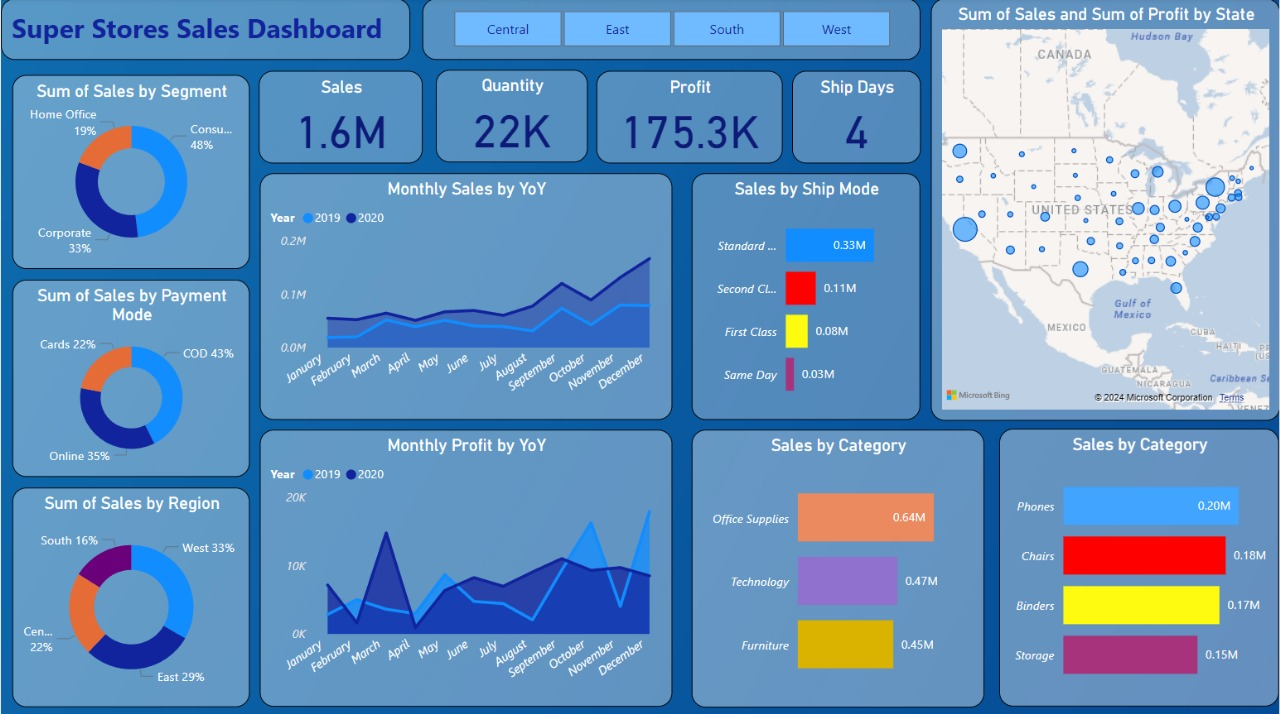

Layout of this report page (visuals, bound fields, positions):
{"tool":"powerbi","page":{"name":"Page 1","canvas":[1280,720],"ordinal":0},"visuals":[{"type":"clusteredBarChart","title":"Sales by Category","fields":{"Category":["Sheet1.Category"],"Y":["Sum(Sheet1.Sales)"]},"box":[691.2,432.1,292.6,278],"z":0},{"type":"clusteredBarChart","title":"Sales by Ship Mode","fields":{"Category":["Sheet1.Ship Mode","Sheet1.Sub-Category","Sheet1.Category"],"Y":["Sum(Sheet1.Sales)"]},"box":[691.2,175,228.8,247.5],"z":1000},{"type":"areaChart","title":"Monthly Sales by YoY","fields":{"Y":["Sum(Sheet1.Sales)"],"Category":["Sheet1.Order Date.Variation.Date Hierarchy.Month"],"Series":["Sheet1.Order Date.Variation.Date Hierarchy.Year"]},"box":[258.8,175,412.5,247.5],"z":2000},{"type":"areaChart","title":"Monthly Profit by YoY","fields":{"Category":["Sheet1.Order Date.Variation.Date Hierarchy.Month"],"Series":["Sheet1.Order Date.Variation.Date Hierarchy.Year"],"Y":["Sum(Sheet1.Profit)"]},"box":[258.8,432.5,412.5,277.5],"z":3000},{"type":"map","fields":{"Category":["Sheet1.State"],"Size":["Sum(Sheet1.Sales)"]},"box":[930.2,0,349.5,423.2],"z":4000},{"type":"donutChart","fields":{"Category":["Sheet1.Segment"],"Y":["Sum(Sheet1.Sales)"]},"box":[11.2,77,237.8,194.3],"z":5000},{"type":"donutChart","fields":{"Category":["Sheet1.Payment Mode"],"Y":["Sum(Sheet1.Sales)"]},"box":[11.2,281.4,237.8,197.6],"z":6000},{"type":"donutChart","fields":{"Category":["Sheet1.Region"],"Y":["Sum(Sheet1.Sales)"]},"box":[11.2,490.2,237.8,220],"z":7000},{"type":"slicer","fields":{"Values":["Sheet1.Region"]},"box":[422.1,0,498,61.4],"z":8000},{"type":"textbox","box":[0,0,409.8,61.4],"z":9000},{"type":"card","title":"Sales","fields":{"Values":["Sum(Sheet1.Sales)"]},"box":[257.9,72.6,164.1,92.7],"z":10000},{"type":"card","title":"Quantity","fields":{"Values":["Sum(Sheet1.Quantity)"]},"box":[435.5,71.5,151.9,92.7],"z":11000},{"type":"card","title":"Profit","fields":{"Values":["Sum(Sheet1.Profit)"]},"box":[596.3,72.6,186.5,92.7],"z":12000},{"type":"card","title":"Ship Days","fields":{"Values":["Avg(Sheet1.AvgDelivery)"]},"box":[791.2,72.5,128.8,92.5],"z":13000},{"type":"clusteredBarChart","title":"Sales by Category","fields":{"Category":["Sheet1.Sub-Category"],"Y":["Sum(Sheet1.Sales)"]},"box":[999.4,431,280.3,278],"z":14000}]}

Visuals, with their boxes in screenshot pixels (x1, y1, x2, y2), scaled from the page's 1280x720 canvas onto the 1280x714 screenshot:
"Sales by Category" clusteredBarChart: box=[691, 428, 984, 704]
"Sales by Ship Mode" clusteredBarChart: box=[691, 174, 920, 419]
"Monthly Sales by YoY" areaChart: box=[259, 174, 671, 419]
"Monthly Profit by YoY" areaChart: box=[259, 429, 671, 704]
map - Sheet1.State x Sum(Sheet1.Sales): box=[930, 0, 1279, 420]
donutChart - Sheet1.Segment x Sum(Sheet1.Sales): box=[11, 76, 249, 269]
donutChart - Sheet1.Payment Mode x Sum(Sheet1.Sales): box=[11, 279, 249, 475]
donutChart - Sheet1.Region x Sum(Sheet1.Sales): box=[11, 486, 249, 704]
slicer - Sheet1.Region: box=[422, 0, 920, 61]
textbox: box=[0, 0, 410, 61]
"Sales" card: box=[258, 72, 422, 164]
"Quantity" card: box=[436, 71, 587, 163]
"Profit" card: box=[596, 72, 783, 164]
"Ship Days" card: box=[791, 72, 920, 164]
"Sales by Category" clusteredBarChart: box=[999, 427, 1279, 703]
